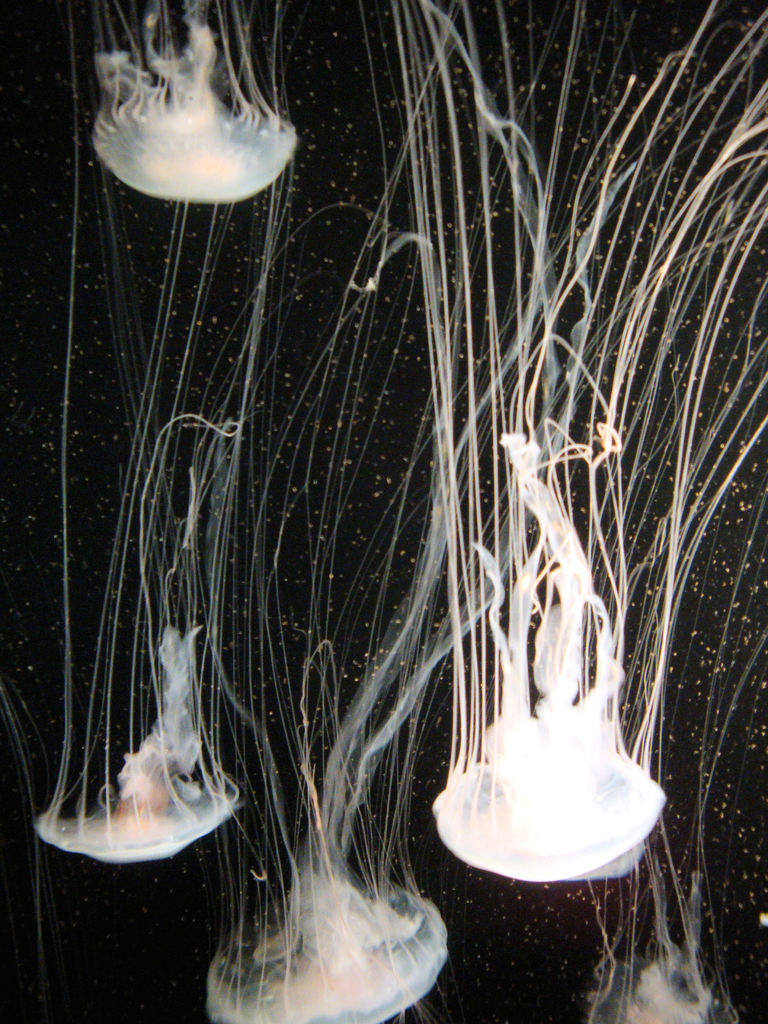Jellyfish: (192, 0, 701, 1023), (359, 0, 767, 888), (30, 0, 266, 862), (579, 234, 767, 1023), (85, 0, 298, 199)
